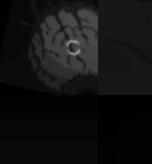eyeC: (0, 0, 98, 95)
helmet: (0, 95, 98, 164)
sword: (98, 95, 152, 164)
